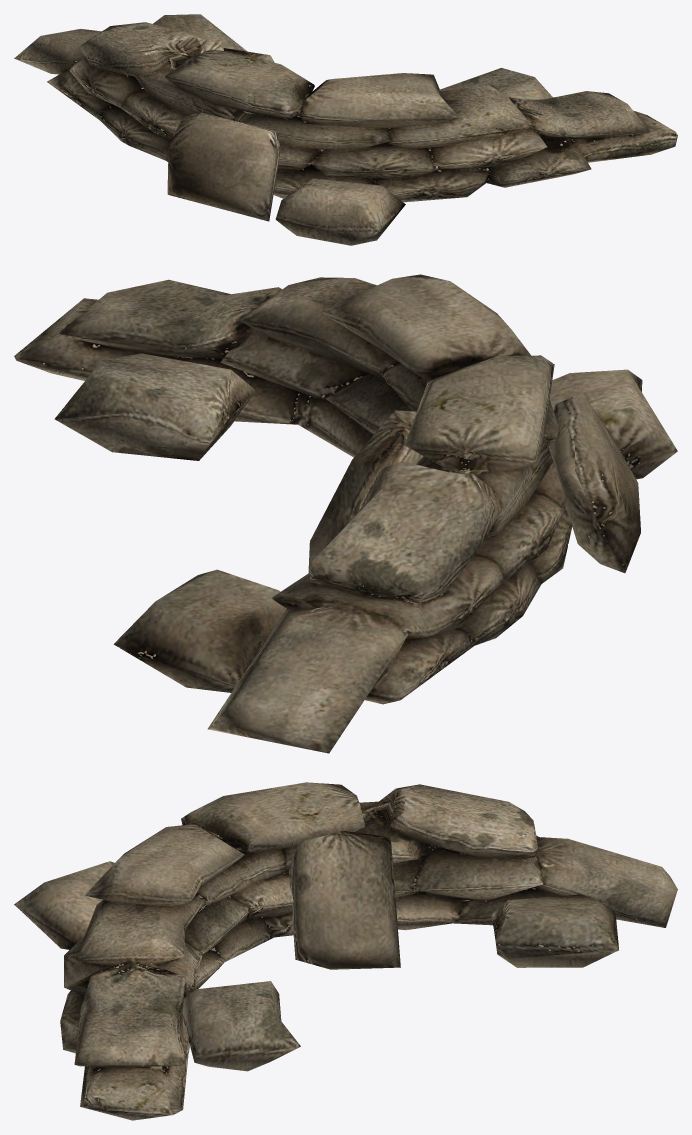
Rendered from sandbags_01.obj.
The picture shows the model from 3 angles, top to bottom: view 1: azimuth 30°, elevation 25°; view 2: azimuth 150°, elevation 25°; view 3: azimuth 270°, elevation 25°; orthographic projection. The views are drawn at different scales.
Bounding box in the file's own units: 6.6 × 1.69 × 7.49.
1 material, 1 textured.
